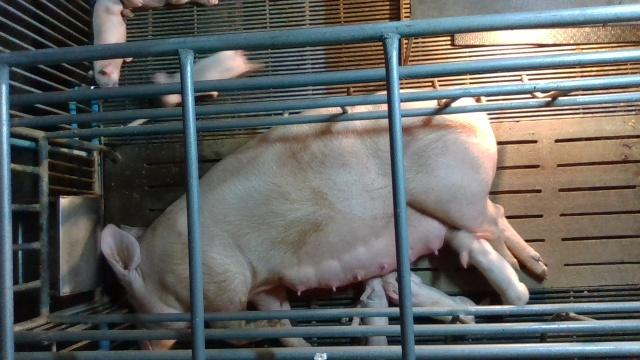piglet: (150, 51, 259, 107), (383, 269, 492, 324), (93, 2, 133, 88), (353, 277, 388, 345)
sow-sleep-lactate: (100, 89, 547, 347)
